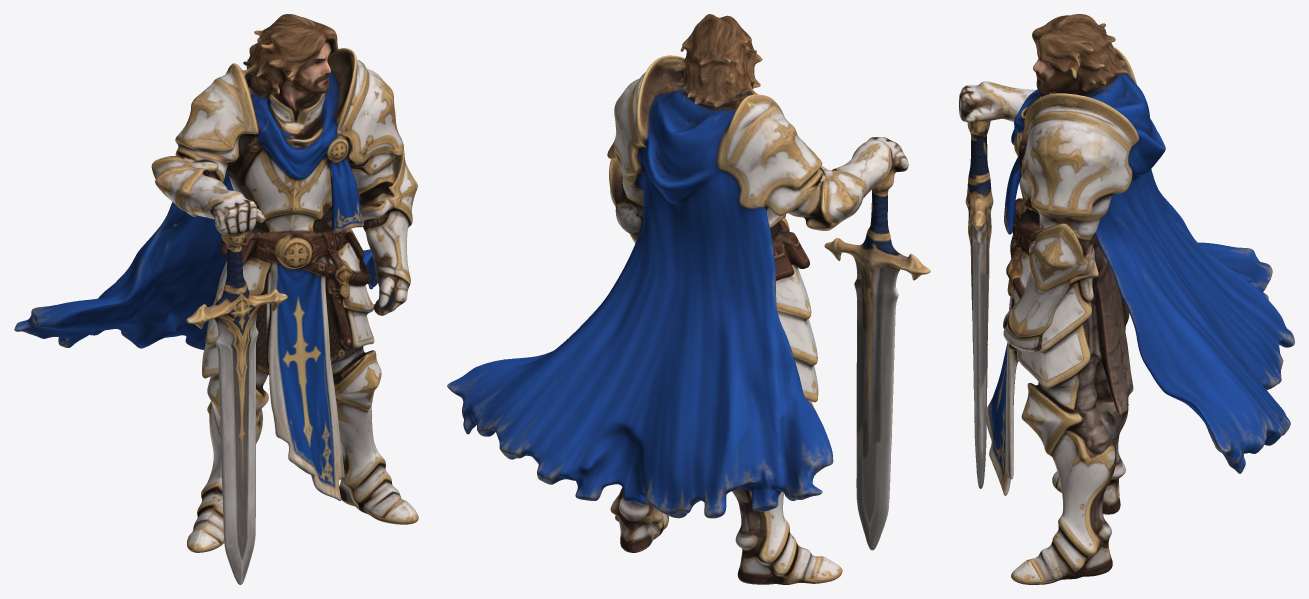
File: holy-knight.glb
The picture shows the model from 3 angles, left to right: view 1: azimuth 30°, elevation 25°; view 2: azimuth 150°, elevation 25°; view 3: azimuth 270°, elevation 25°; orthographic projection. The views are drawn at different scales.
Bounding box in the file's own units: 1.45 × 1.9 × 1.1.
1 material, 1 textured.
